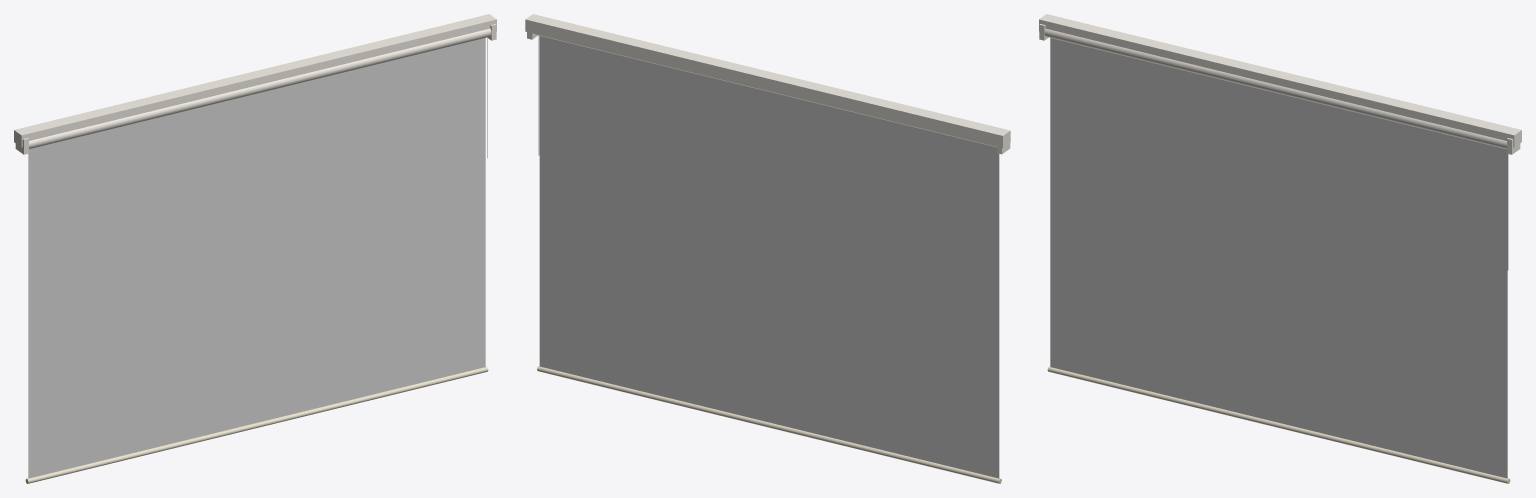
Rendered from curtain-roller-art.glb.
3 views of the same model, side by side, from view 1: azimuth 30°, elevation 25°; view 2: azimuth 150°, elevation 25°; view 3: azimuth 330°, elevation 25° (orthographic).
Visible parts, largest first — view 1: RollerFabricPanel, RollerTopHood, RollerTopTube, RollerBottomBar; view 2: RollerFabricPanel, RollerTopHood, RollerBottomBar, RollerTopTube; view 3: RollerFabricPanel, RollerTopHood, RollerTopTube, RollerBottomBar.
Part boxes in pixels (x1,y1,x2,y2): RollerFabricPanel: (28, 38, 485, 478); RollerTopHood: (14, 14, 496, 147); RollerTopTube: (29, 28, 491, 149); RollerBottomBar: (25, 366, 488, 483); RollerFabricPanel: (539, 36, 999, 478); RollerTopHood: (525, 14, 1010, 147); RollerBottomBar: (537, 366, 1001, 483); RollerTopTube: (535, 34, 996, 147); RollerFabricPanel: (1050, 38, 1507, 478); RollerTopHood: (1039, 14, 1521, 147); RollerTopTube: (1044, 28, 1506, 149); RollerBottomBar: (1047, 366, 1510, 483).
Bounding box in the file's own units: 3.68 × 2.6 × 0.115.
